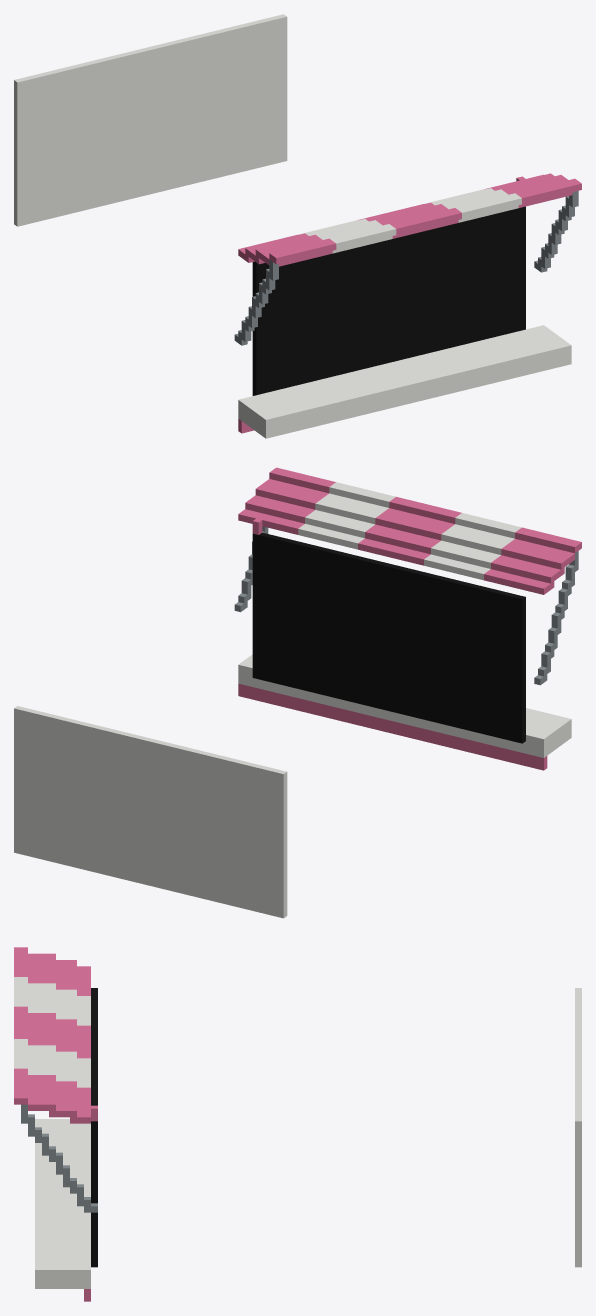
The model's file is ice_cream_van_serving_hatch.glb.
3 renders of one model, top to bottom at view 1: azimuth 30°, elevation 25°; view 2: azimuth 150°, elevation 25°; view 3: azimuth 270°, elevation 25°, orthographic.
Parts seen in each view (by area): view 1: body:compound; view 2: body:compound; view 3: body:compound.
Part boxes in pixels (left/top/right/bottom): body:compound: left=14, top=14, right=581, bottom=438; body:compound: left=14, top=467, right=581, bottom=918; body:compound: left=14, top=947, right=581, bottom=1301.
Bounding box in the file's own units: 1.59 × 1 × 2.53.
